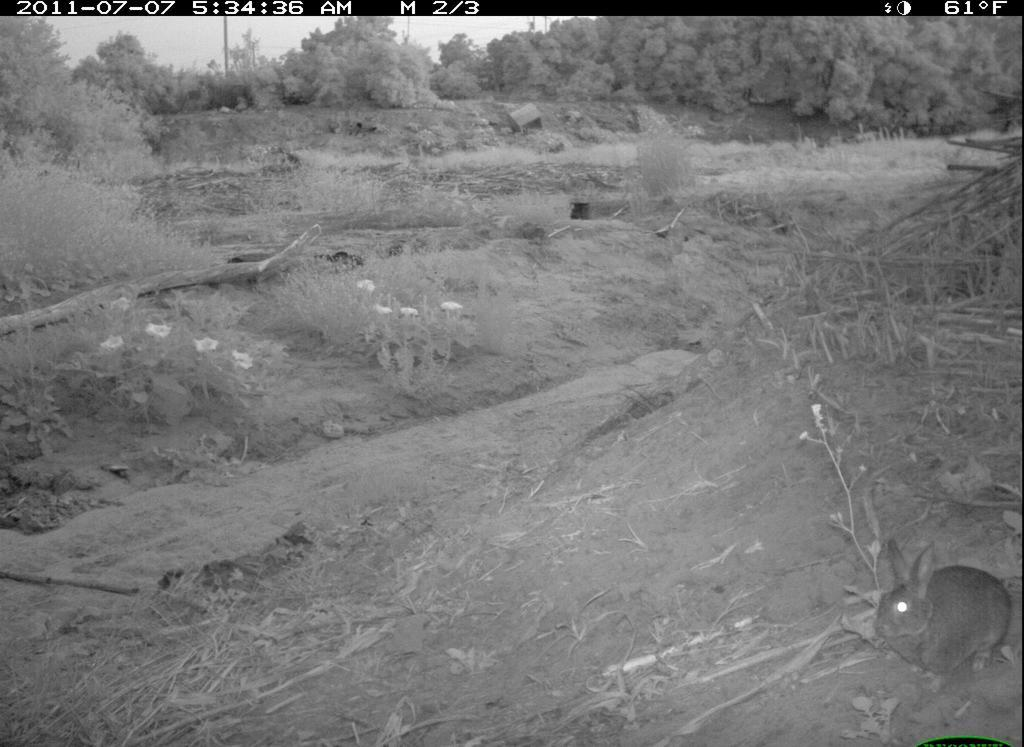rabbit: (868, 532, 1019, 698)
